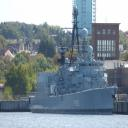Fragata: (30, 1, 120, 116)
